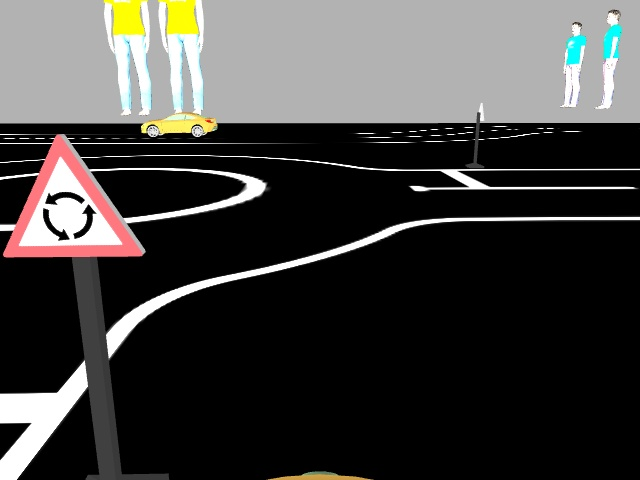Roundabout: (0, 130, 146, 257)
